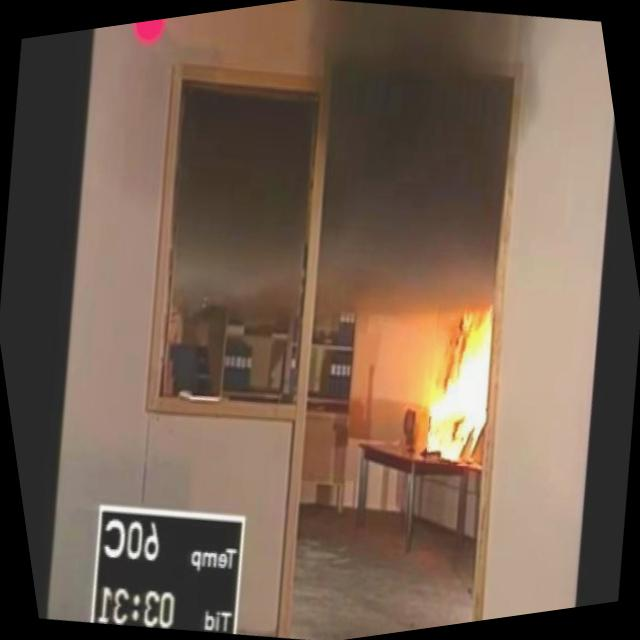fire: (377, 292, 518, 486)
